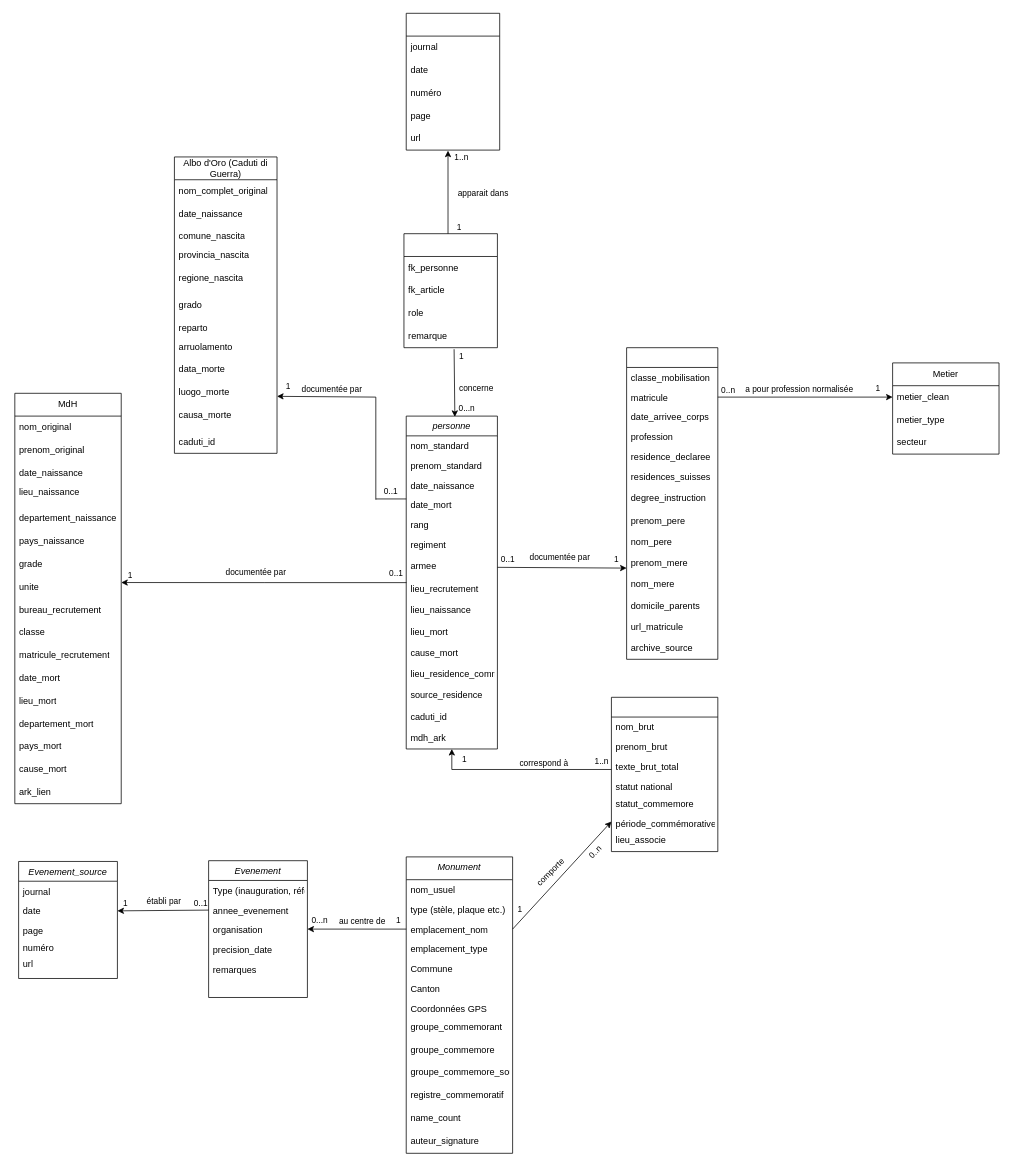
Some shapes in this 1012 by 1169 pixel diagram are drawn without their labels. Here are the shapes that lost their labels. From the top down, the box of each, then its label:
(405, 13, 500, 150): article_presse
(403, 233, 497, 348): personne_presse
(626, 347, 718, 659): fiche_matricule
(611, 697, 718, 852): Inscription
